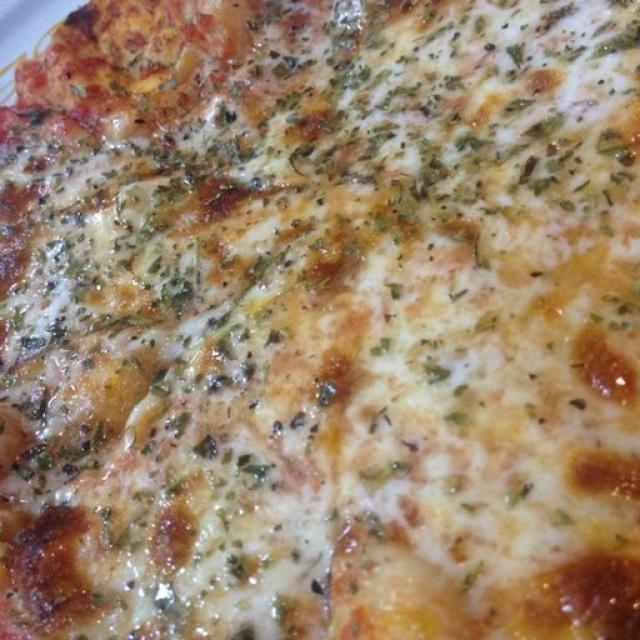Pizza: (0, 0, 640, 640)
